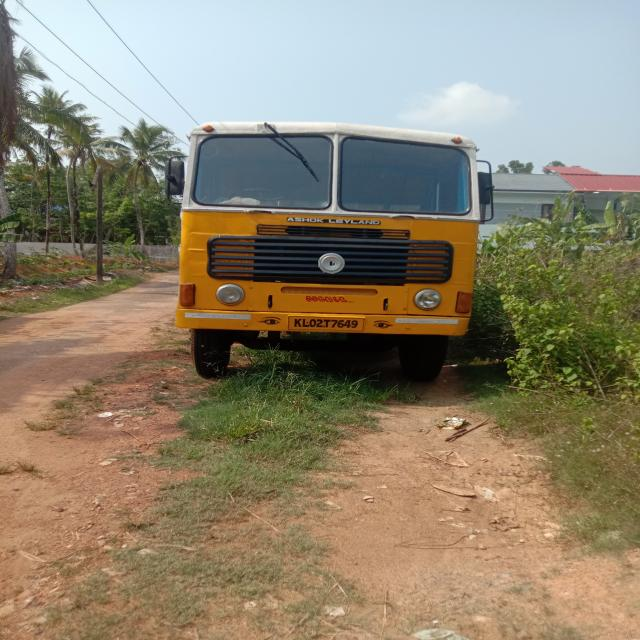Truck: (154, 120, 519, 379)
